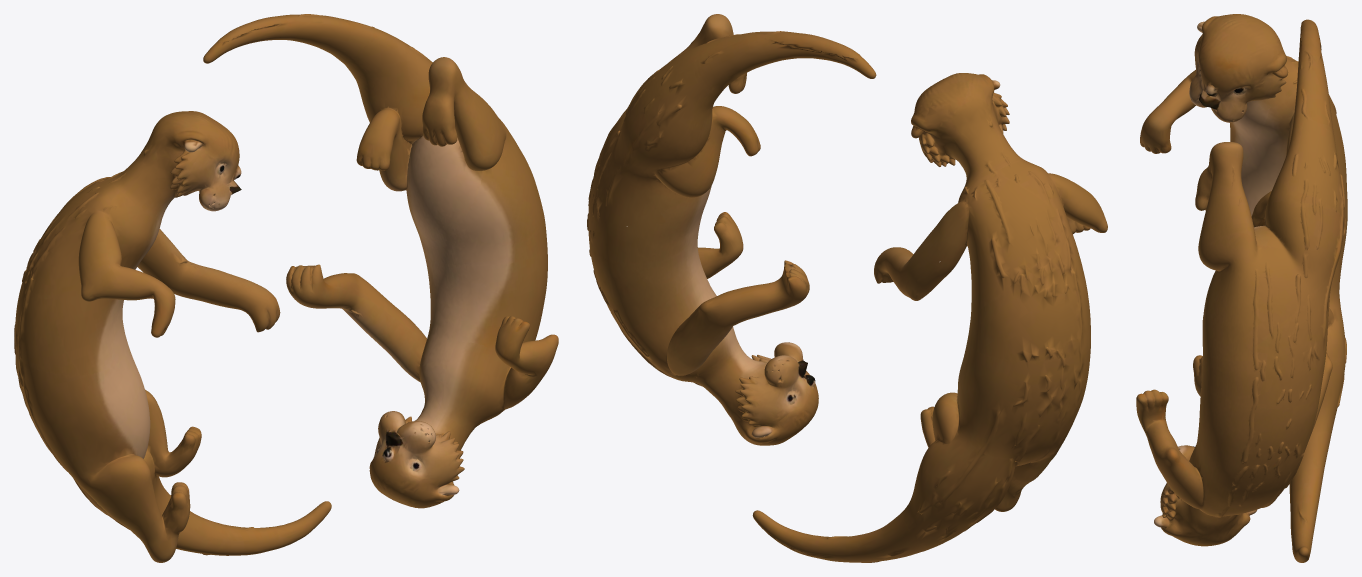
Rendered from otter-web.glb.
3 views of the same model, side by side, from view 1: azimuth 30°, elevation 25°; view 2: azimuth 150°, elevation 25°; view 3: azimuth 270°, elevation 25° (orthographic).
Visible parts, largest first — view 1: tripo_node_515ab3c4-1358-4040-9522-e523a6f882b3; view 2: tripo_node_515ab3c4-1358-4040-9522-e523a6f882b3; view 3: tripo_node_515ab3c4-1358-4040-9522-e523a6f882b3.
Part boxes in pixels (<box>): tripo_node_515ab3c4-1358-4040-9522-e523a6f882b3: <box>14,14,558,562</box>; tripo_node_515ab3c4-1358-4040-9522-e523a6f882b3: <box>587,14,1107,562</box>; tripo_node_515ab3c4-1358-4040-9522-e523a6f882b3: <box>1136,14,1347,562</box>.
Bounding box in the file's own units: 0.979 × 0.9757 × 0.3602.
Materials: 1 (1 with a texture image).
